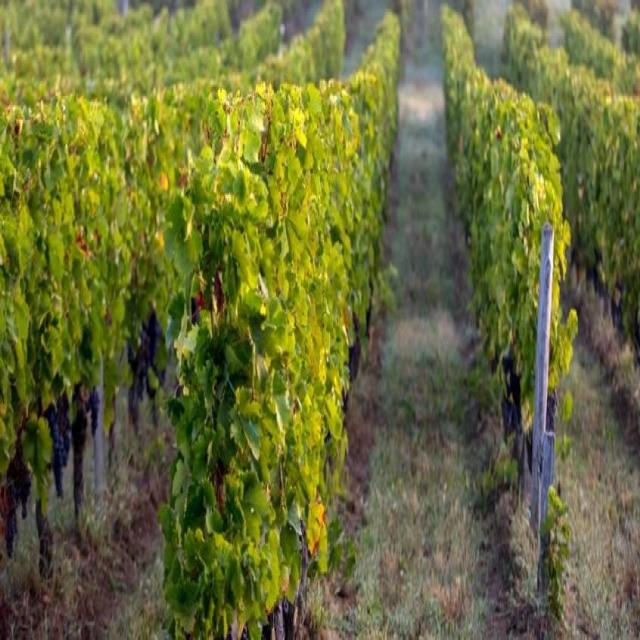row: (312, 44, 512, 640), (22, 370, 291, 637), (514, 238, 640, 627)
